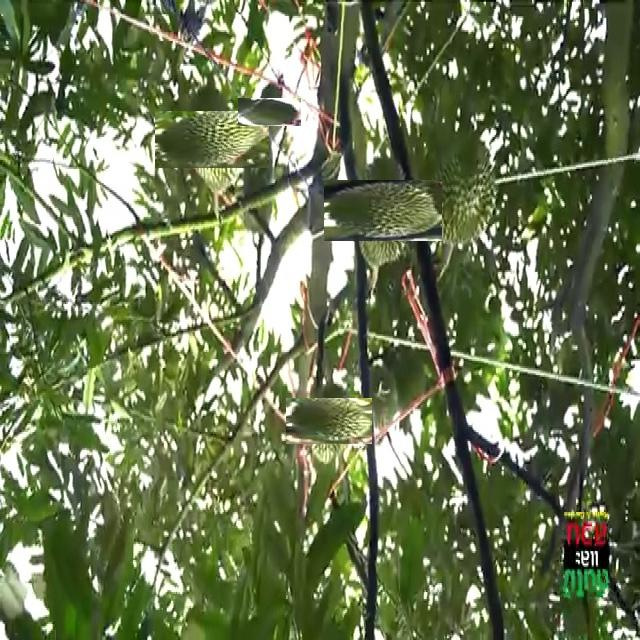durian: (428, 126, 498, 250), (338, 166, 428, 256), (168, 96, 254, 182), (295, 388, 362, 454), (247, 89, 293, 135)
